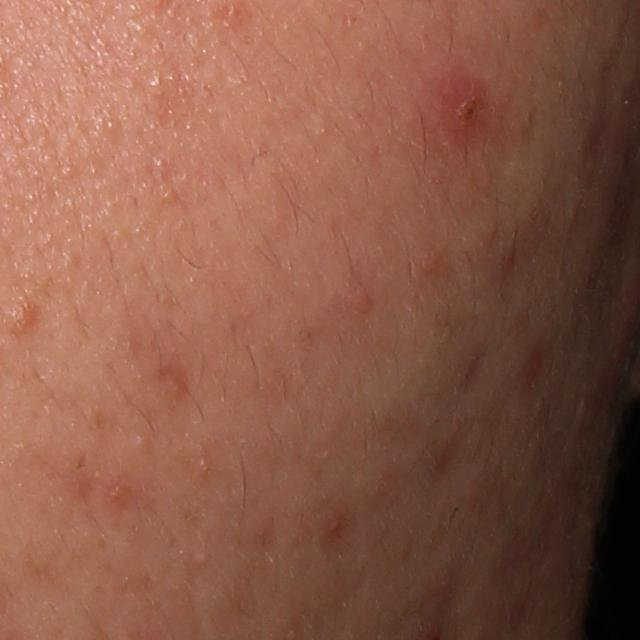comedo: (133, 431, 152, 450), (191, 549, 211, 566)
papule: (435, 81, 488, 151), (10, 302, 40, 340), (348, 290, 376, 319), (105, 482, 132, 509), (324, 512, 349, 540)
